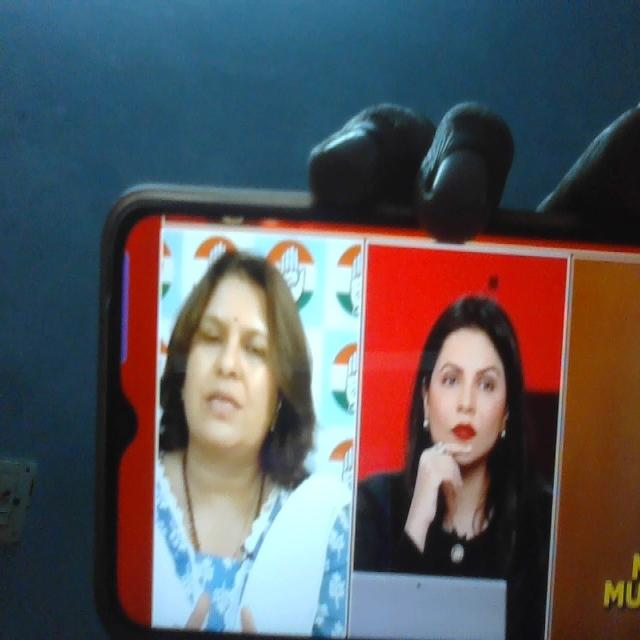fake: (172, 237, 292, 464), (417, 286, 527, 494)
